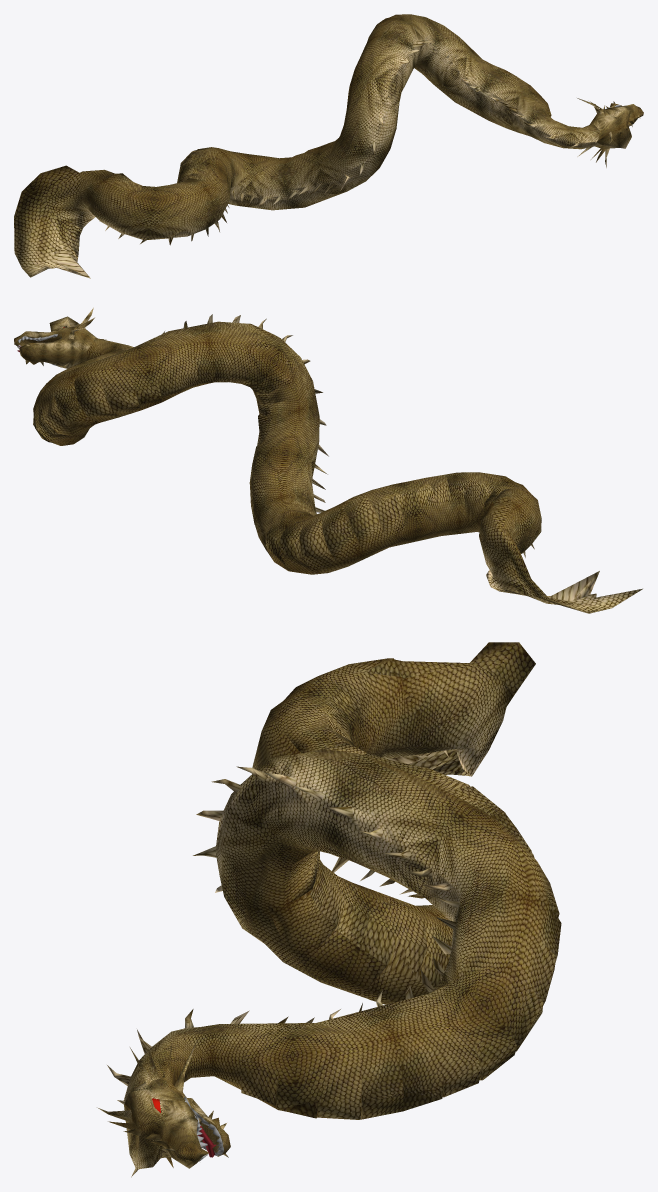
The model's file is surasa_000026.obj.
3 views of the same model, one above another, from view 1: azimuth 30°, elevation 25°; view 2: azimuth 150°, elevation 25°; view 3: azimuth 270°, elevation 25° (orthographic). The views are drawn at different scales.
Visible parts, largest first — view 1: body_Plane.001; view 2: body_Plane.001; view 3: body_Plane.001.
Part boxes in pixels (x1,y1,x2,y2): body_Plane.001: (14, 14, 643, 278); body_Plane.001: (14, 307, 642, 613); body_Plane.001: (97, 642, 561, 1177).
Bounding box in the file's own units: 61.73 × 16.79 × 21.51.
